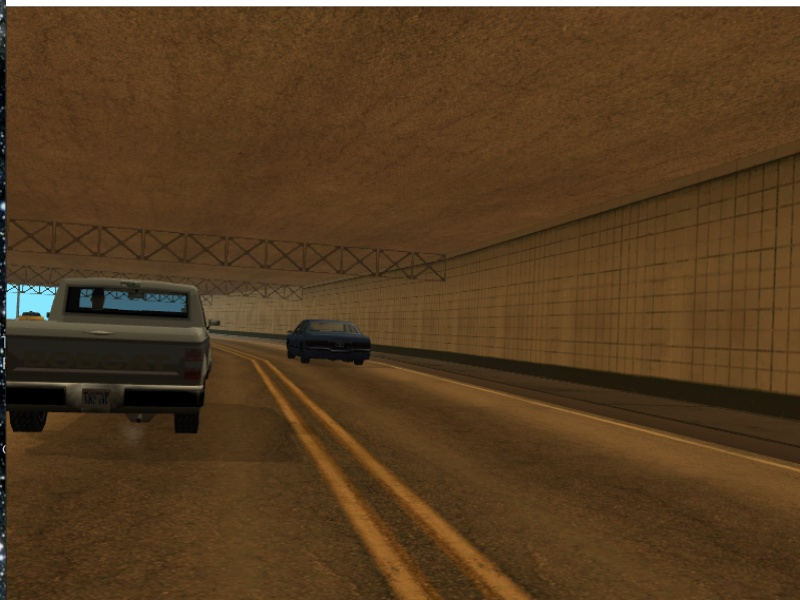vehicle: (8, 274, 222, 436), (282, 315, 377, 372)
